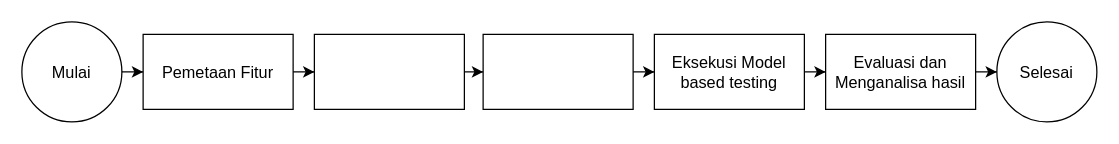
The diagram is 1119 pixels wide and 144 high, and some of its shapes have lost their labels. The shapes that lost their labels are listed below. From the top down, each one's centre as x and y in pixels, then its label:
point (388, 71): Pembuatan Model(EFSM)
point (557, 71): Persiapan test case dan automation testing
